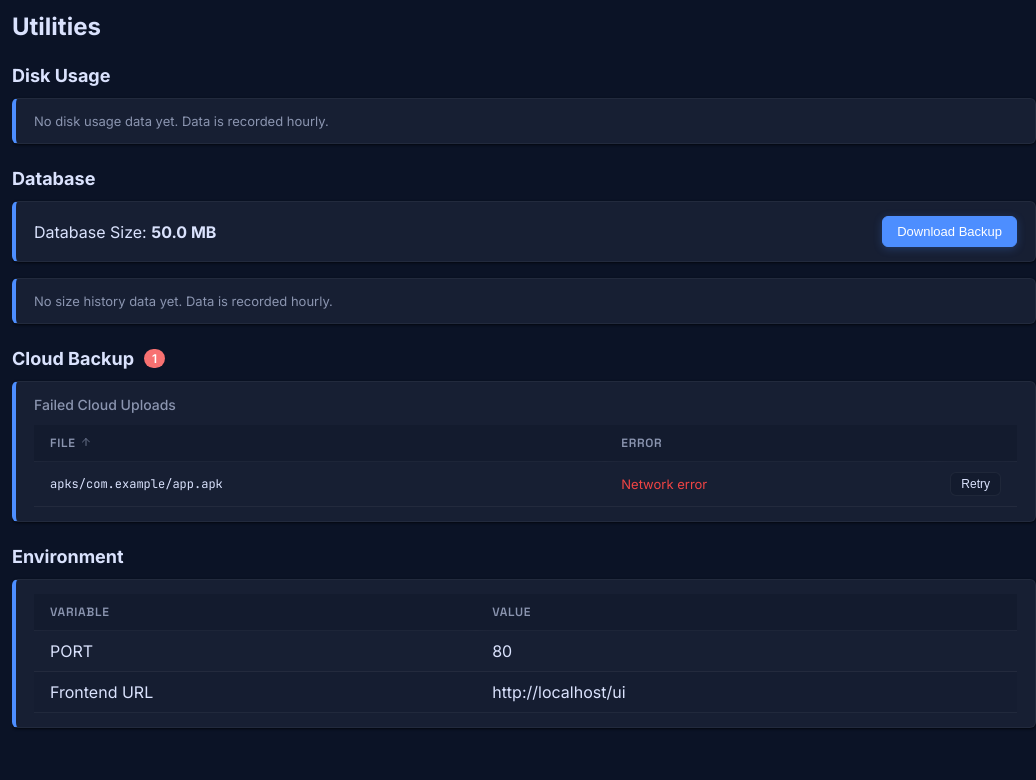
Test case: Utils Page — Cloud Backup section › removes entry from list after successful retry
Click the button with test id "retry-btn-apks/com.example/app.apk": click(976, 484) [950,472,1001,496]
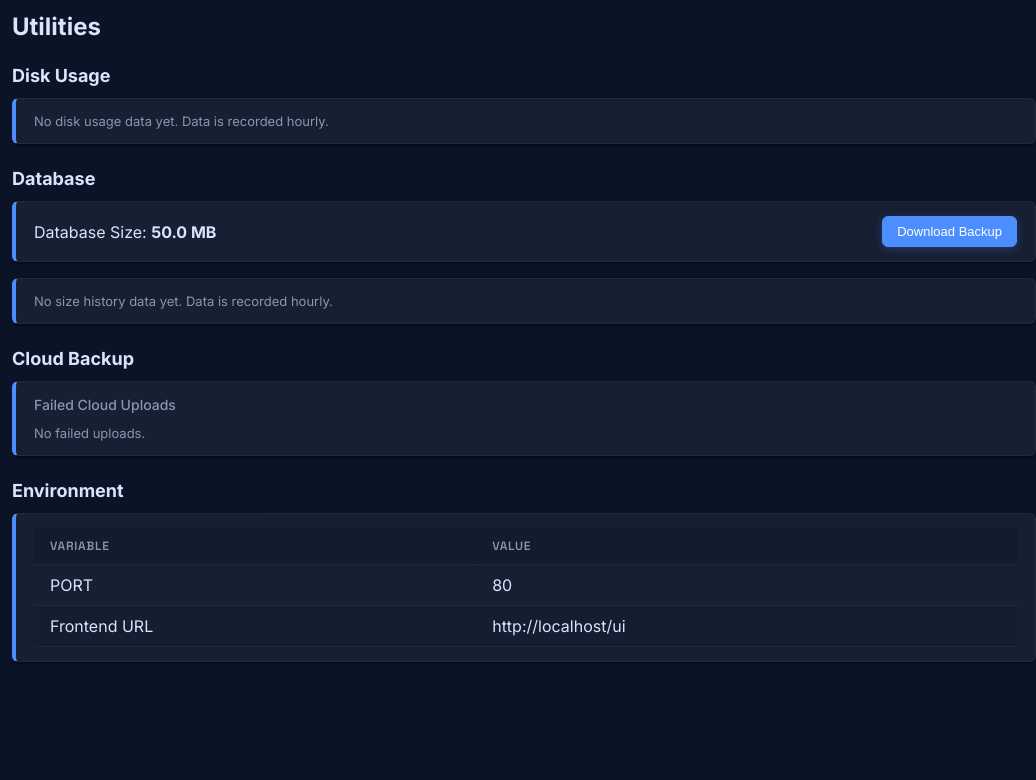
Now the text "Network error" is gone
Now the text "No failed uploads." is shown, box [34,425,145,441]
